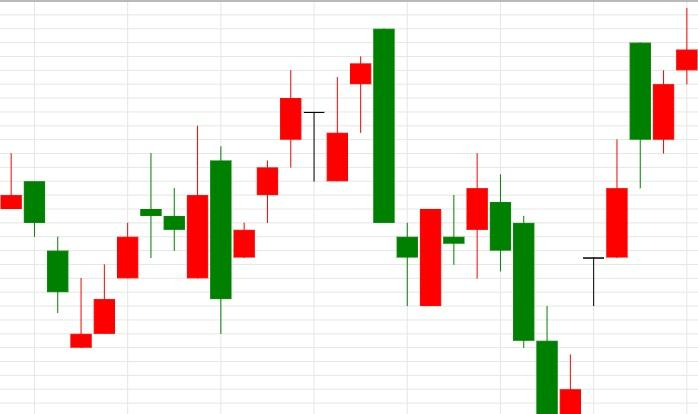bearish_engulfing_fall: (233, 29, 395, 258)
bullish_engulfing_rise: (373, 29, 441, 306)
inverse_hammer_rise: (490, 174, 581, 414)
three_white_soldiers_rise: (1, 153, 138, 348)
